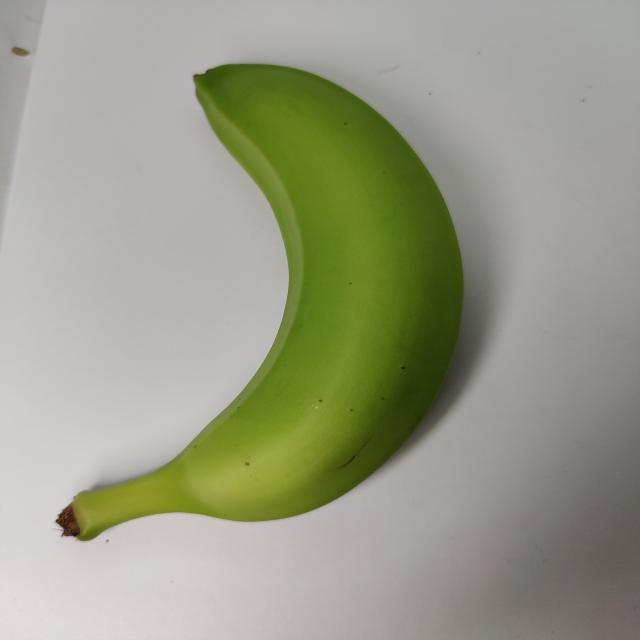raw: (47, 51, 477, 583)
